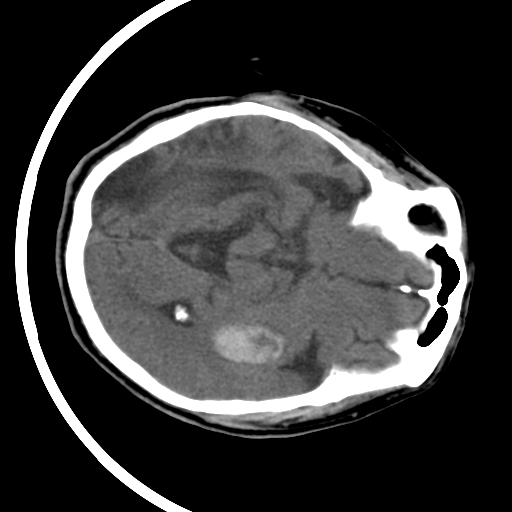a: (197, 308, 300, 380)
